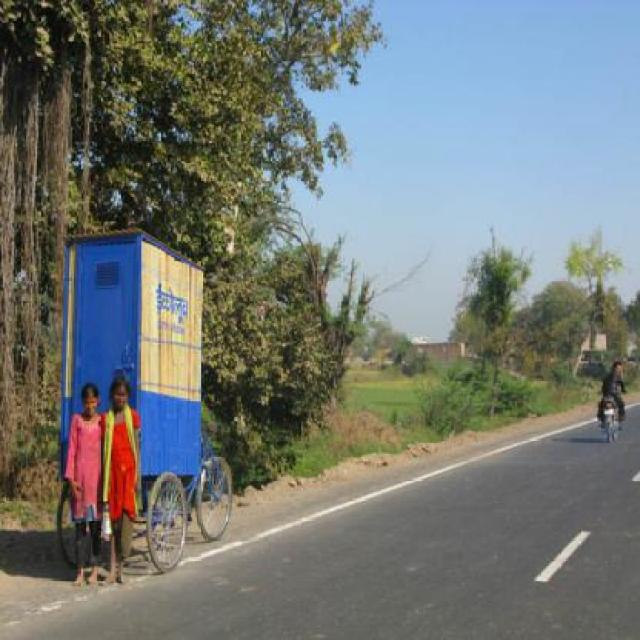Person: (102, 377, 142, 581), (63, 382, 102, 584), (593, 359, 627, 430)
